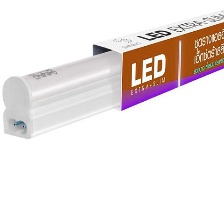book: (89, 6, 224, 119)
light_bulb: (2, 1, 224, 112)
